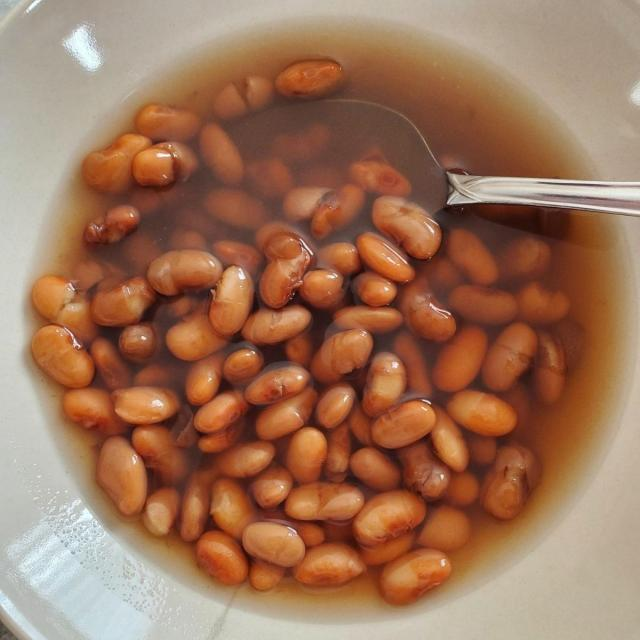frijoles: (6, 14, 632, 633)
